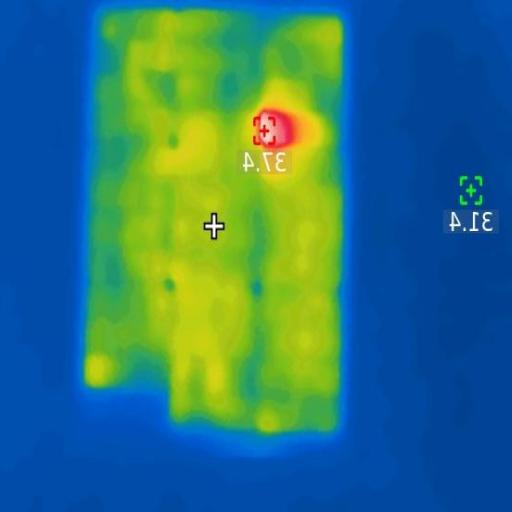hotspot: (240, 102, 305, 157)
